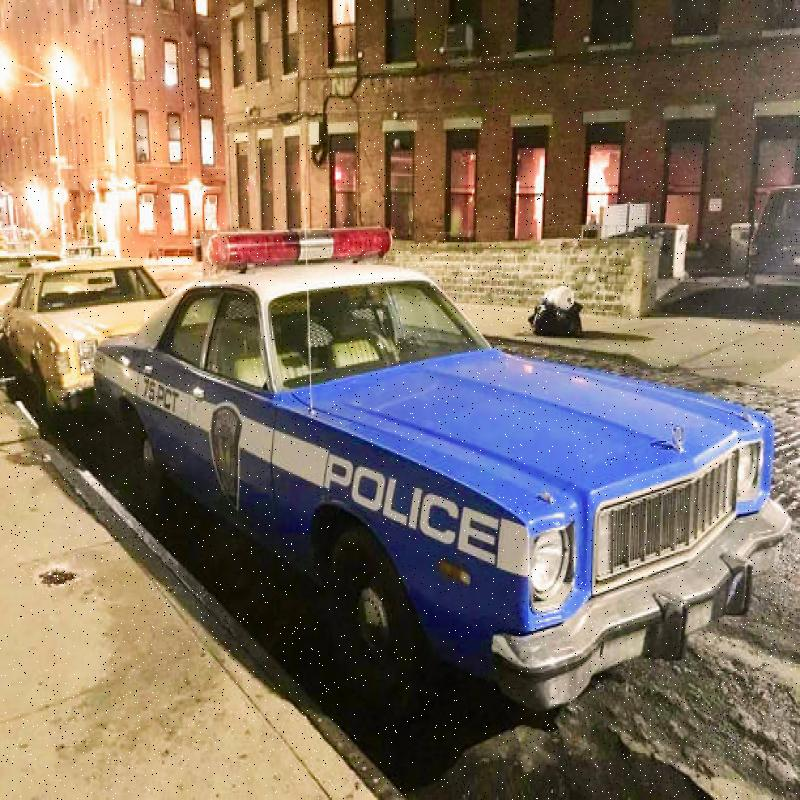AmbulanceSiren: (187, 219, 404, 260)
